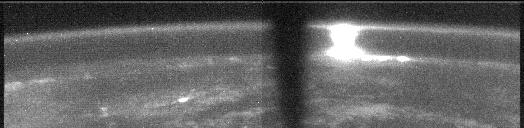positive: (328, 22, 359, 48)
